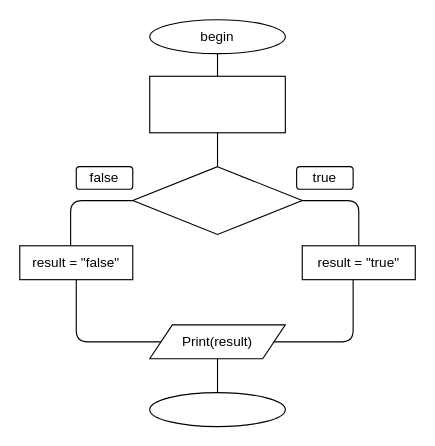
Some shapes in this 435 by 446 pixel diagram are drawn without their labels. Here are the shapes that lost their labels. From the top down, the box of each, then its label:
(149, 75, 285, 133): numb = 4 result = 0
(132, 166, 302, 234): numb / 2 mod = 0
(149, 392, 285, 427): end
